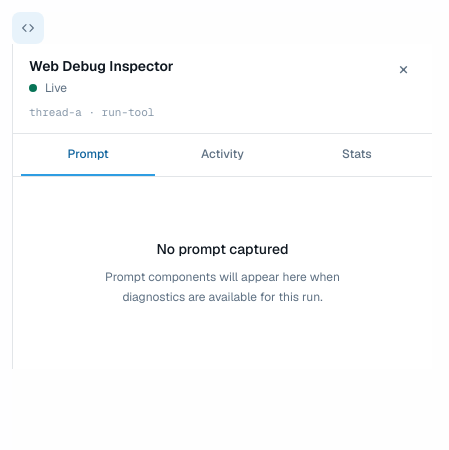
Test: tool activity rejects detail missing a capability name without disabling inspector
The width and height of the screenshot is (449, 450).
Click the tab with test id "inspector-tab-activity". click: x=222, y=154
box: [155, 134, 290, 176]
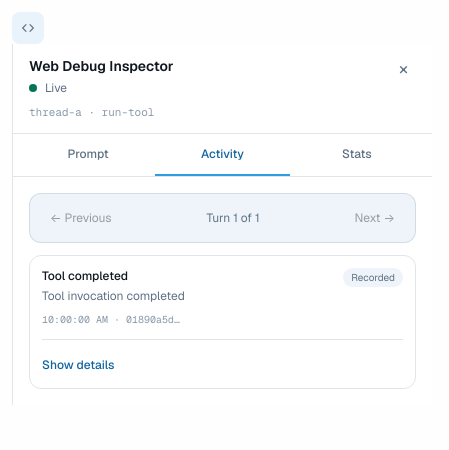
Click the button "Show details". click: x=78, y=364
box: [42, 356, 114, 372]
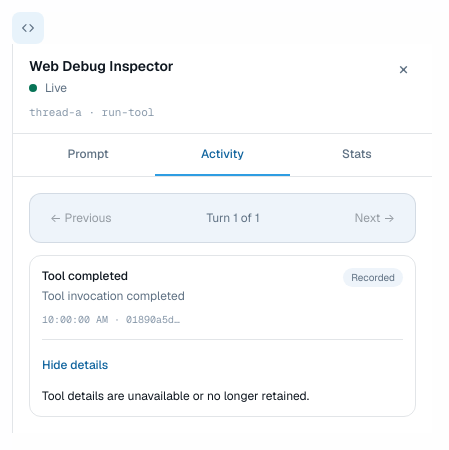
Result: the element with test id "inspector-panel" shows "Tool details are unavailable" at [42, 388, 309, 404]
